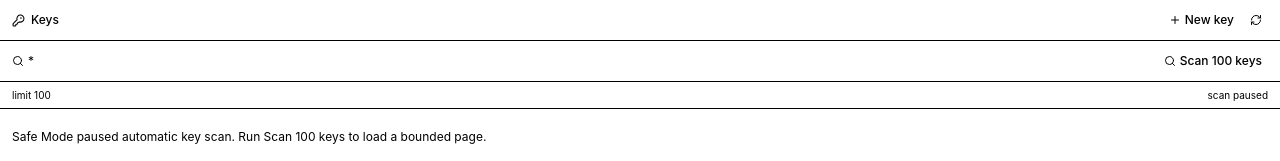
KvSidebar › surfaces key scan refresh errors
Click the button "Scan 100 keys": {"x": 1213, "y": 61} [1158, 49, 1268, 73]
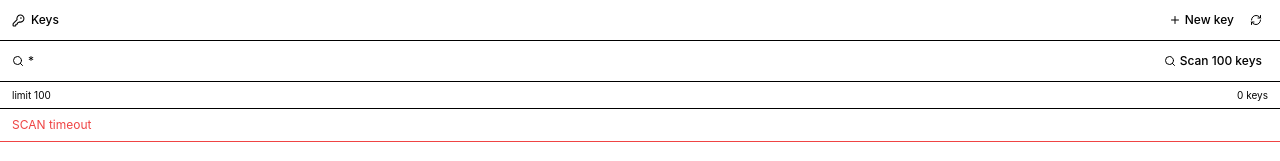
Expected: the message reads "SCAN timeout", [12, 117, 92, 132]
Expected: the element with test id "redis-scan-status" shows "0 keys", [1237, 89, 1268, 101]
